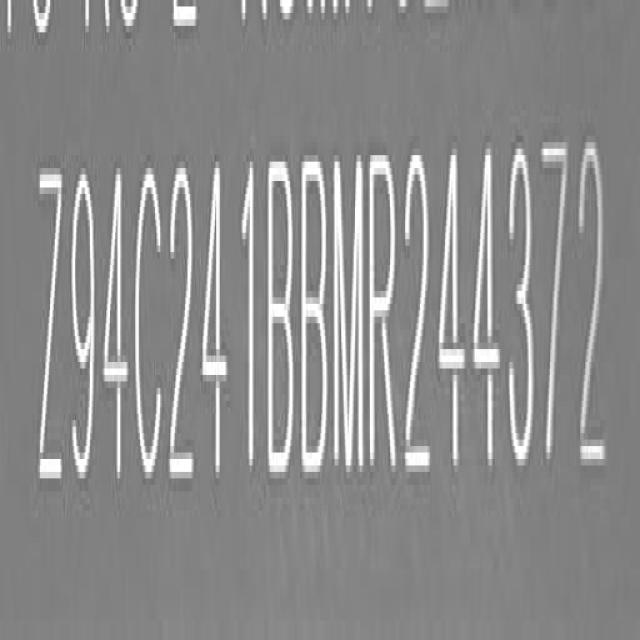1: (237, 144, 257, 481)
2: (576, 144, 608, 479), (169, 151, 197, 488), (404, 153, 432, 481)
3: (507, 151, 537, 479)
4: (468, 146, 502, 481), (436, 141, 466, 474), (200, 146, 229, 472), (101, 158, 130, 479)
7: (542, 134, 572, 465)
9: (70, 156, 98, 481)
B: (264, 144, 296, 476), (298, 153, 329, 486)
C: (134, 148, 166, 484)
M: (330, 151, 364, 474)
R: (368, 153, 399, 467)
Z: (34, 156, 66, 483)
